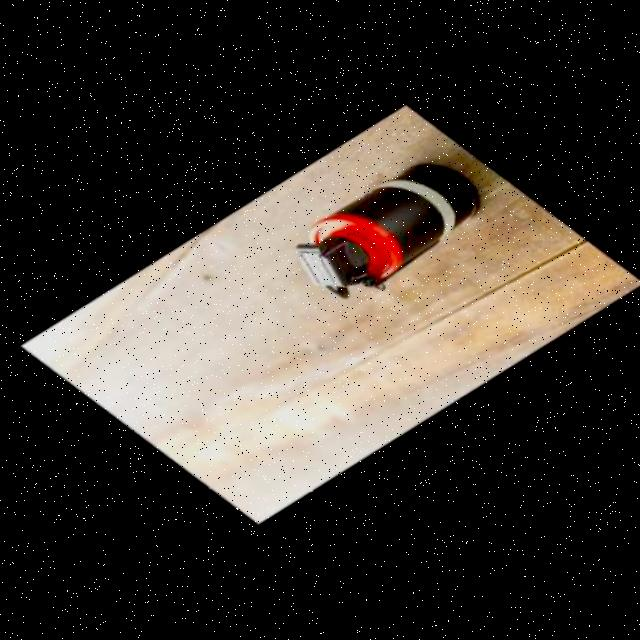grenade: (265, 122, 500, 331)
